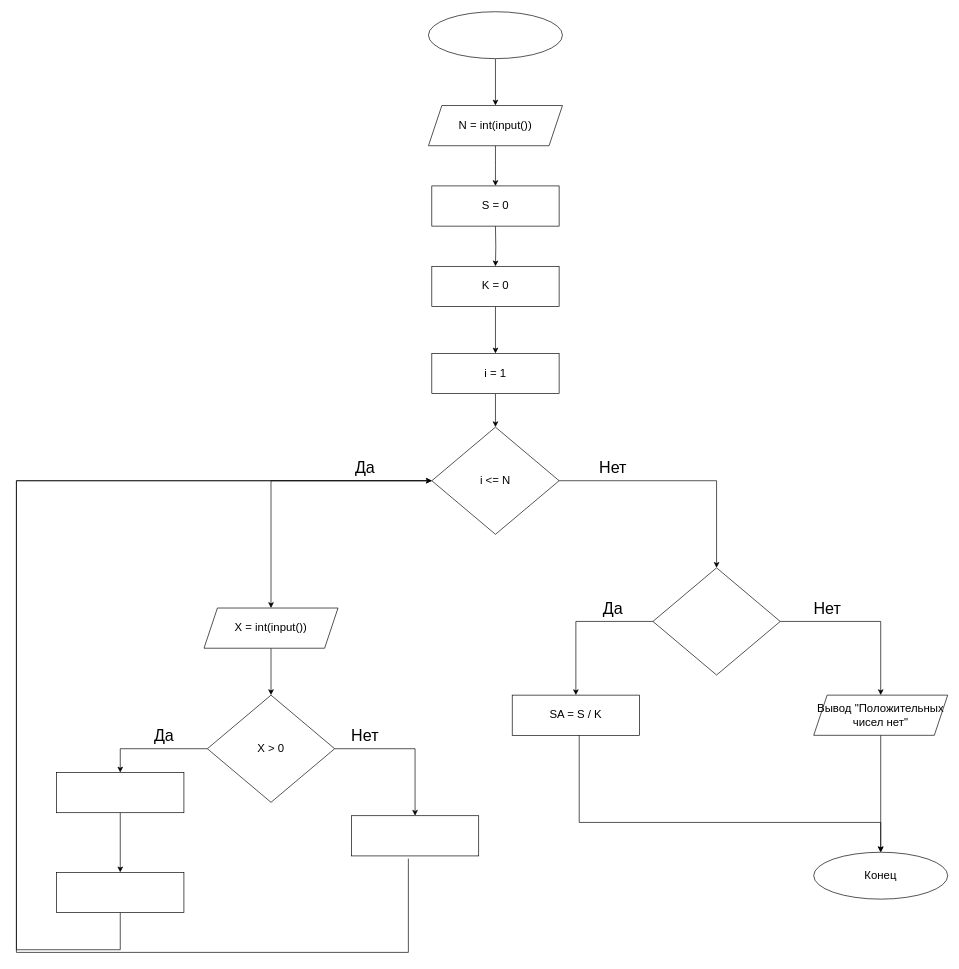
Image size: 959x969. Some labels were removed from this diagram. The shapes that lost their labels are listed below. From the top down, each one's box as (x1, y1, x2, y2) in pixels, then its label:
(428, 11, 562, 59): Начало
(652, 567, 780, 675): K > 0
(56, 772, 184, 813): S = S + X
(351, 815, 479, 856): i = i + 1
(56, 872, 184, 913): K = K + 1
